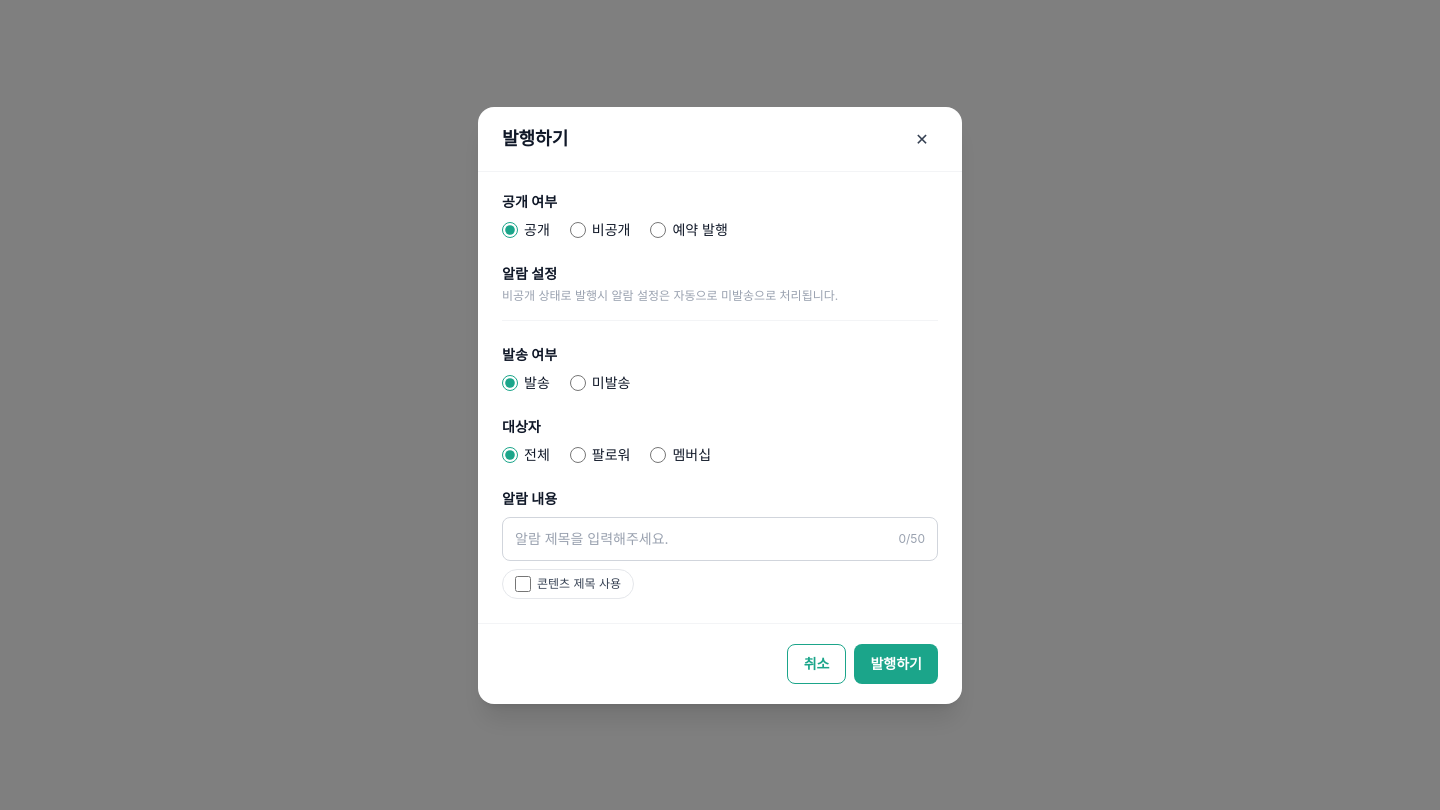
Test: PublishModal › 공개에서 비공개로 바꾸면 발송 여부가 미발송으로 바뀌고 선택할 수 없다
This screenshot has width=1440, height=810.
Click the radio button labelled "공개". click: (510,230)
box: [502, 222, 518, 238]
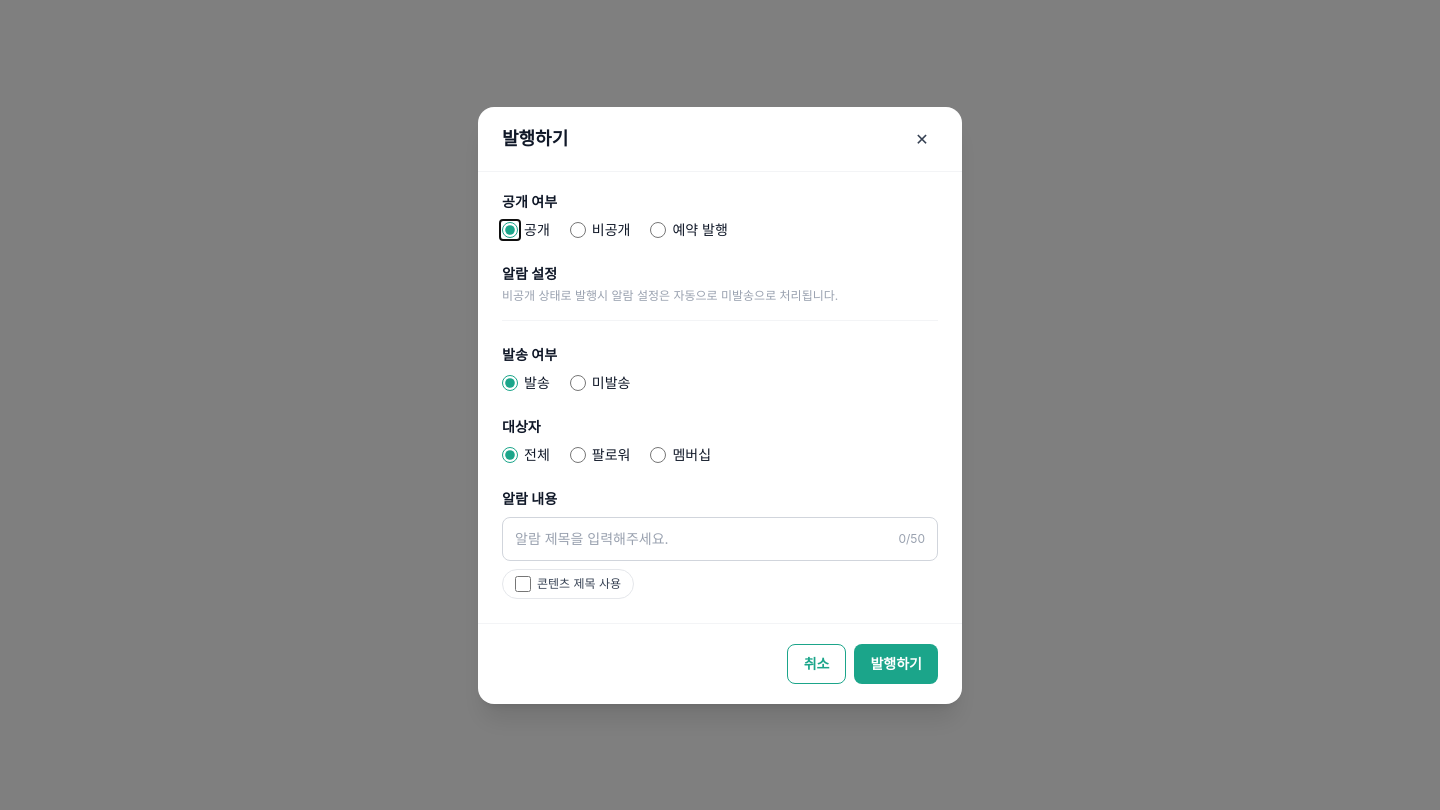
Expected: the radio button labelled "발송" is checked, [502, 374, 518, 390]
Click the radio button labelled "비공개". click: (578,230)
box: [570, 222, 586, 238]
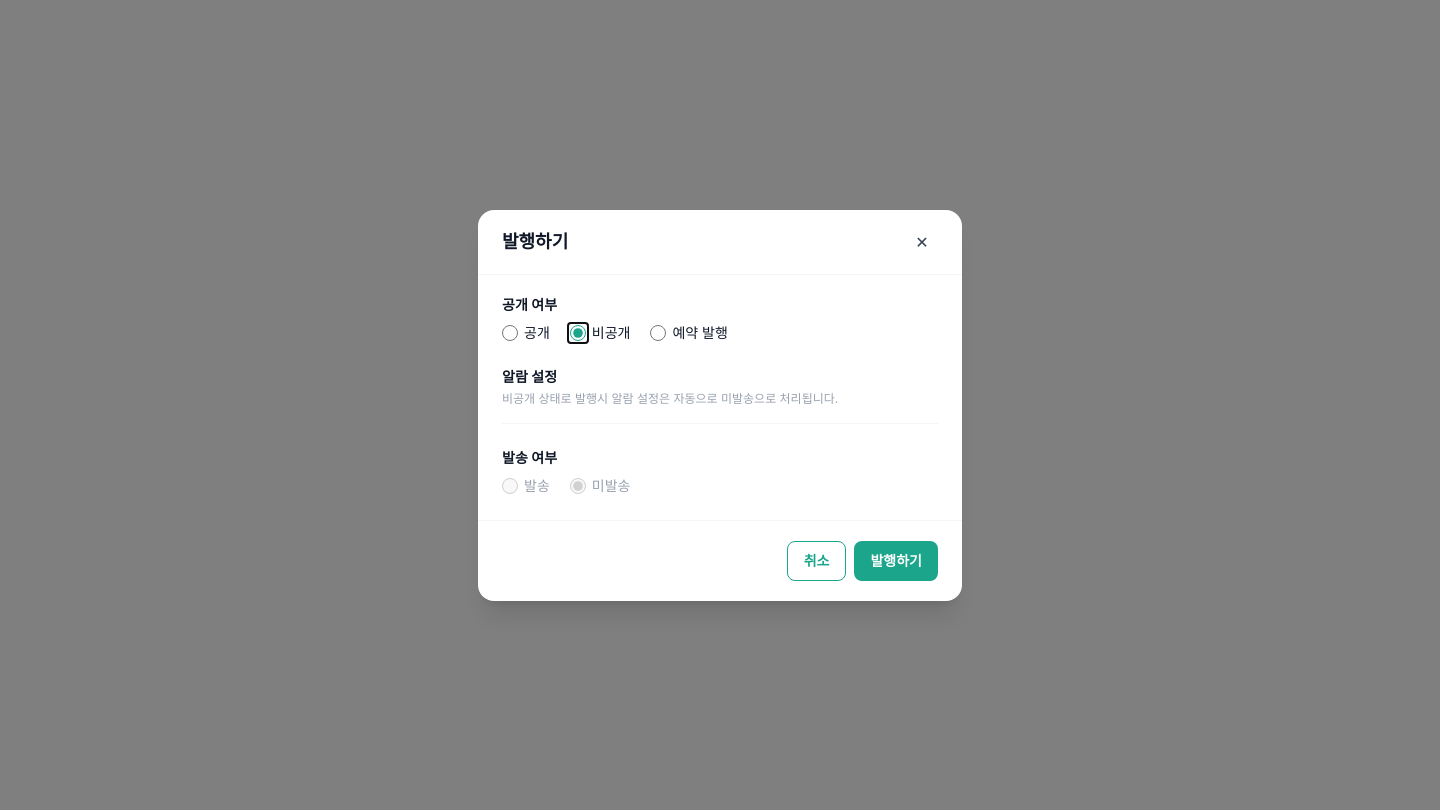
Expected: the radio button labelled "발송" is disabled, [502, 478, 518, 494]
Result: the radio button labelled "미발송" is checked at [570, 478, 586, 494]
Result: the label "알람 내용" is gone
